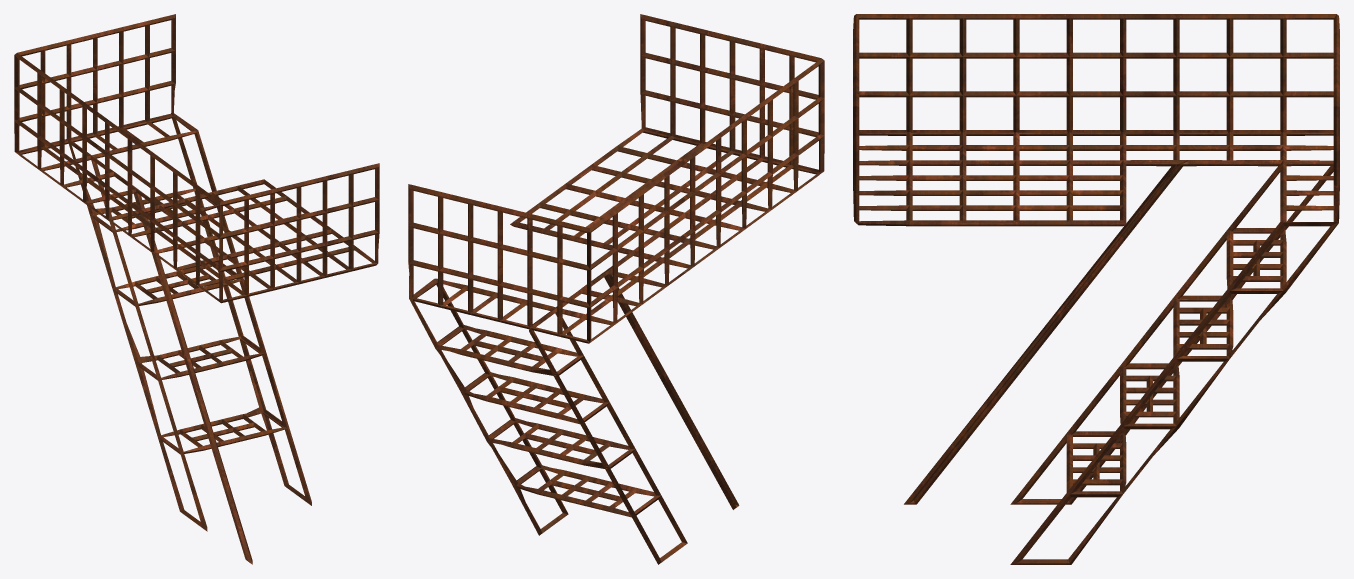
The model's file is firestairs.glb.
3 renders of one model, left to right at view 1: azimuth 30°, elevation 25°; view 2: azimuth 150°, elevation 25°; view 3: azimuth 270°, elevation 25°, orthographic. The views are drawn at different scales.
Visible parts, largest first — view 1: FireStairs; view 2: FireStairs; view 3: FireStairs.
Part boxes in pixels (bbox=[...]): FireStairs: bbox=[14, 14, 379, 564]; FireStairs: bbox=[408, 14, 824, 564]; FireStairs: bbox=[853, 14, 1339, 564].
Size of the model in its own units: 2.06 by 4.76 by 4.56.
Materials: 1 (1 with a texture image).
